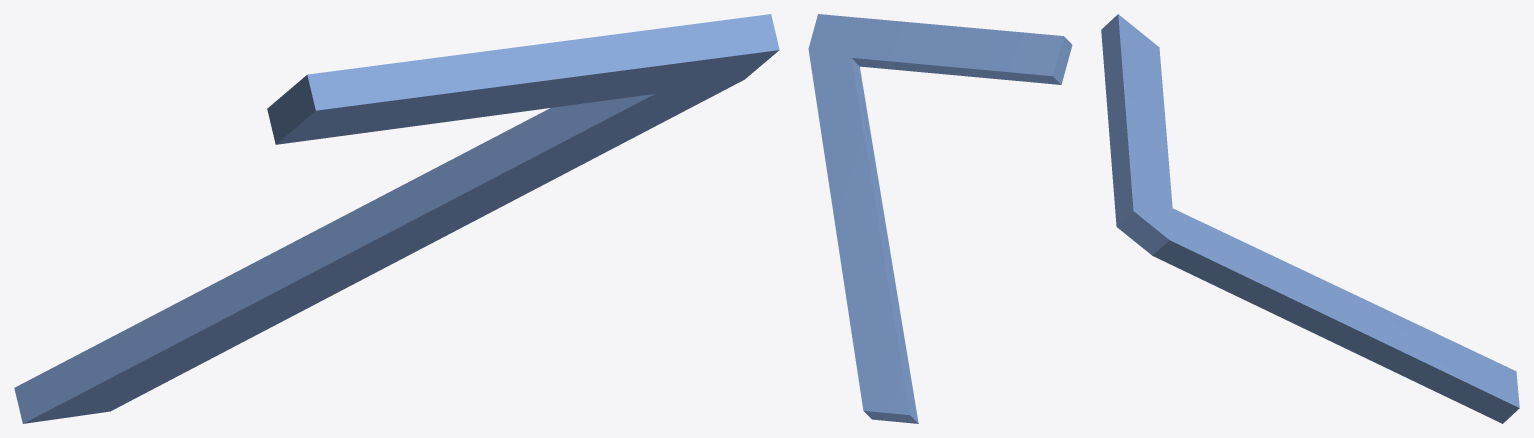
The model's file is New_Number_7.gltf.
3 views of the same model, side by side, from view 1: azimuth 30°, elevation 25°; view 2: azimuth 150°, elevation 25°; view 3: azimuth 270°, elevation 25° (orthographic). The views are drawn at different scales.
Visible parts, largest first — view 1: Part 250; view 2: Part 250; view 3: Part 250.
Boxes of the visible parts, x1,y1,x2,y2 form: Part 250: (14, 14, 779, 423); Part 250: (808, 14, 1072, 423); Part 250: (1101, 14, 1519, 423).
Bounding box in the file's own units: 0.00374 × 0.00417 × 0.00416.
